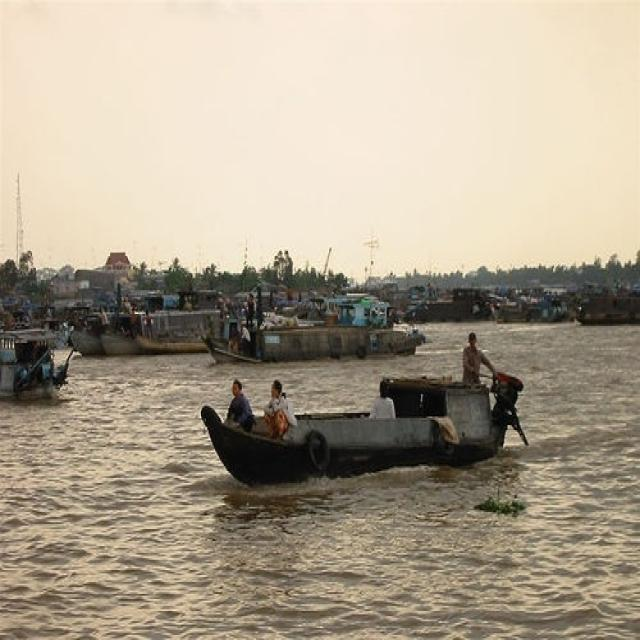Hyacinth: (472, 495, 530, 521)
boat: (192, 372, 518, 484), (205, 323, 428, 361), (1, 326, 80, 408), (143, 317, 218, 359)
